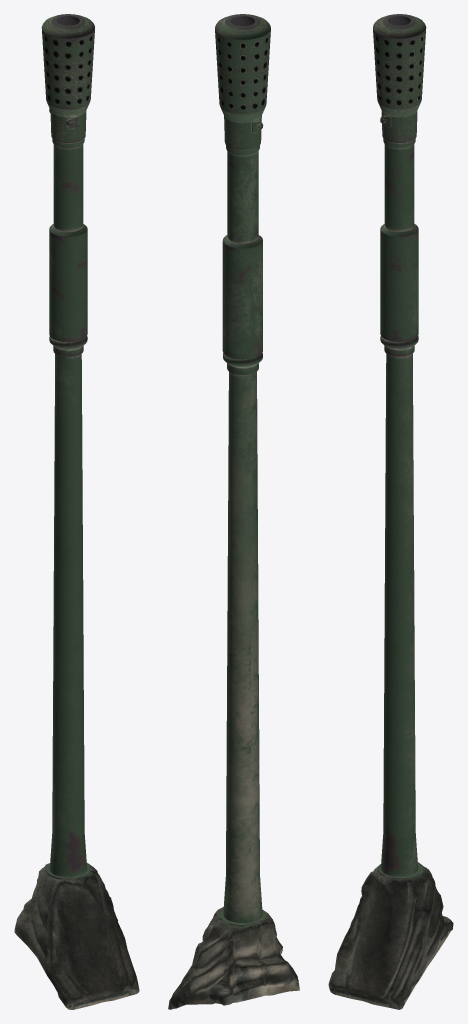
The model's file is Gun_02.glb.
3 renders of one model, left to right at view 1: azimuth 30°, elevation 25°; view 2: azimuth 210°, elevation 25°; view 3: azimuth 330°, elevation 25°, orthographic. The views are drawn at different scales.
Parts seen in each view (by area): view 1: set_0_group_0; view 2: set_0_group_0; view 3: set_0_group_0.
Part boxes in pixels (bbox=[...]): set_0_group_0: bbox=[14, 14, 139, 1009]; set_0_group_0: bbox=[168, 14, 299, 1009]; set_0_group_0: bbox=[328, 14, 453, 1009].
Size of the model in its own units: 0.4805 by 5.51 by 0.6036.
Materials: 1 (1 with a texture image).
